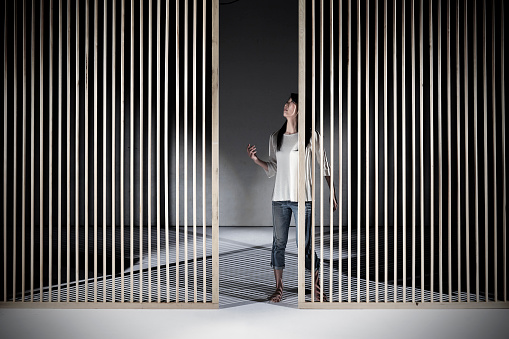em pe: (246, 92, 299, 304)
